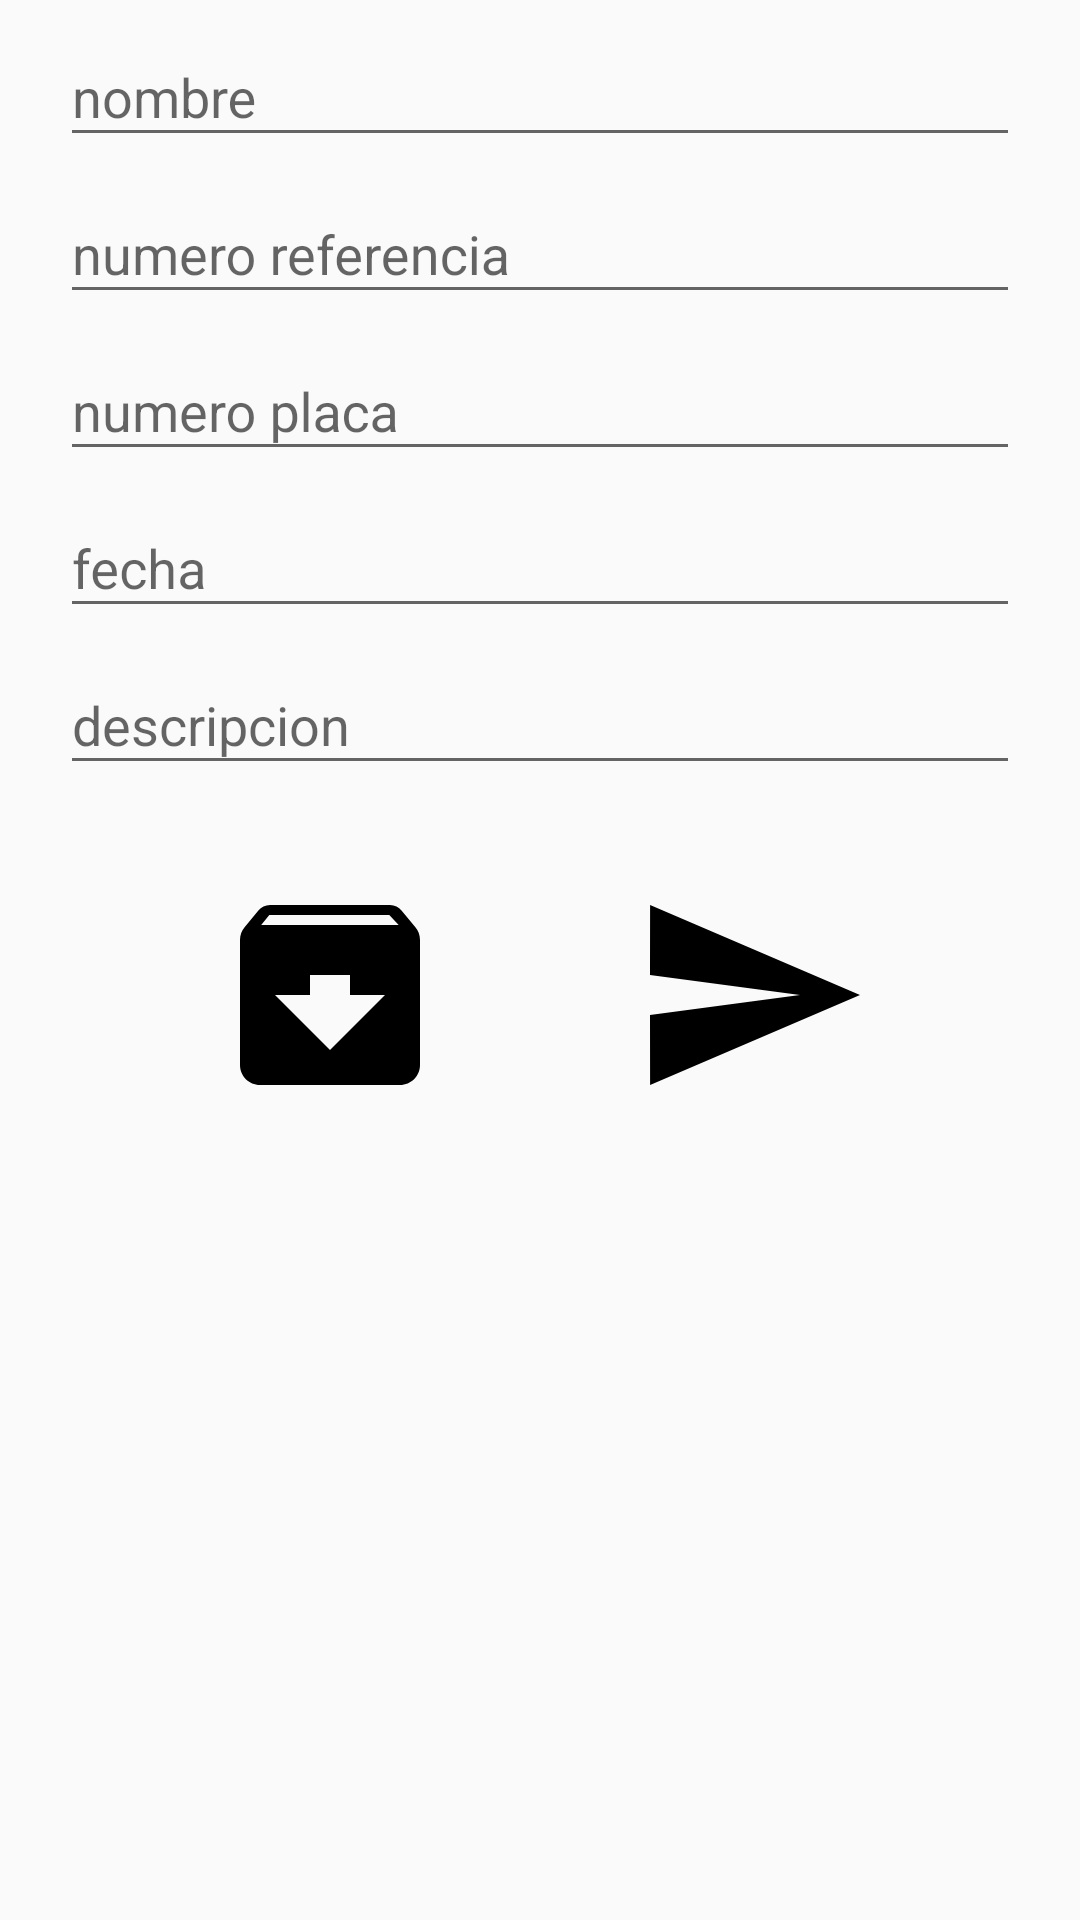

Point at icon controls on the screen. Image size 1080px×1920px, points as [x,y].
enviar: [755,995]
guardar: [330,995]
